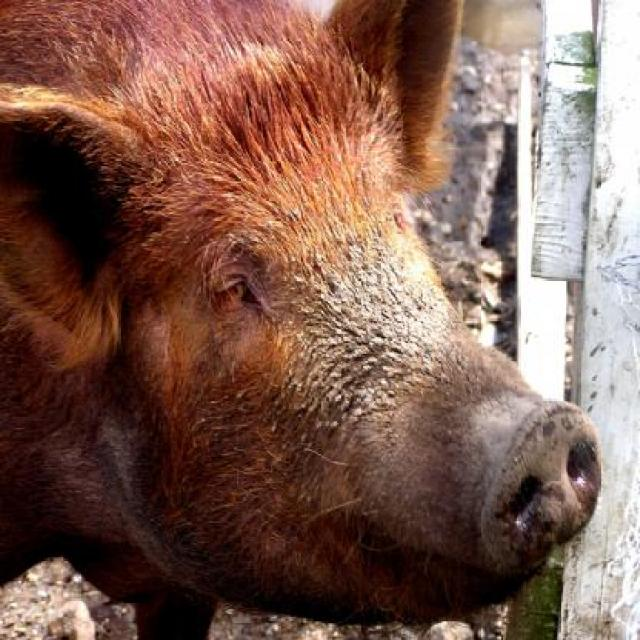pig: (0, 0, 603, 638)
